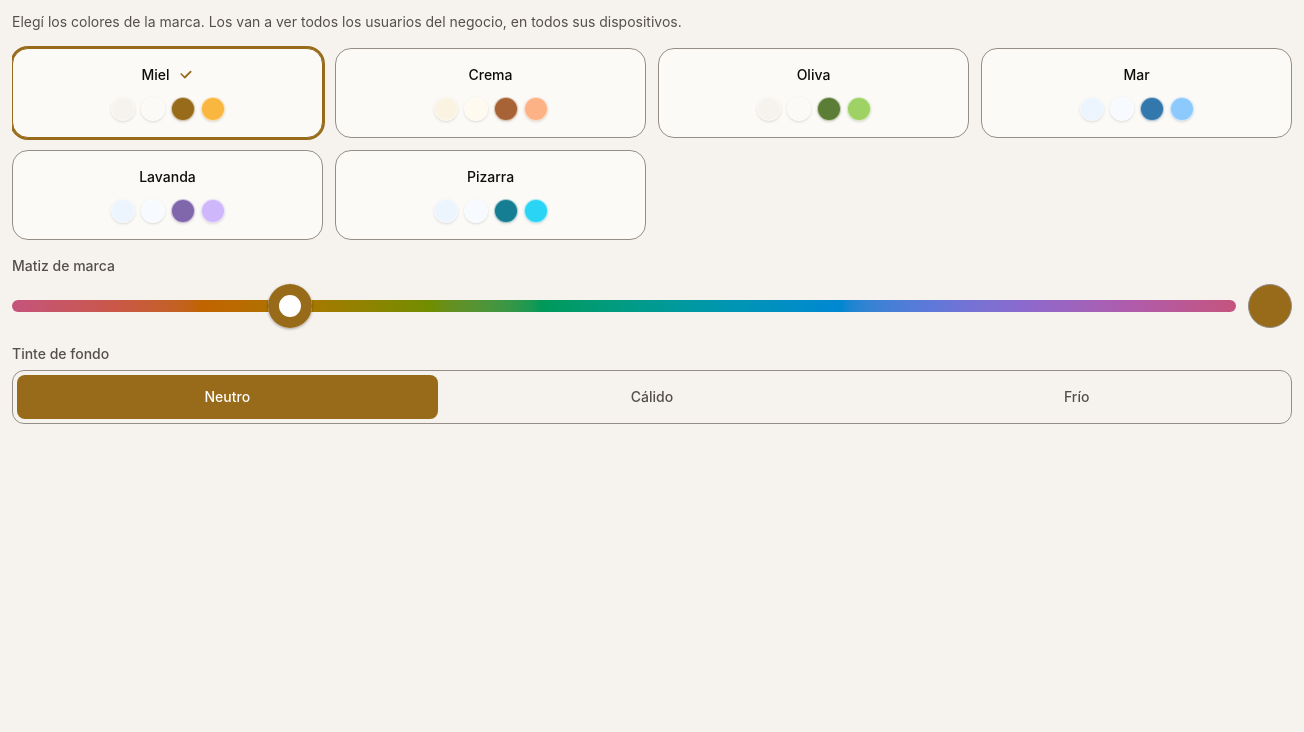
Test: SeccionColoresNegocio › Guardar sin conexión: dispara la escritura sin esperar y avisa con un toast informativo
This screenshot has width=1304, height=732.
Click the radio button labelled "Oliva": x=813, y=74 [658,48,969,138]
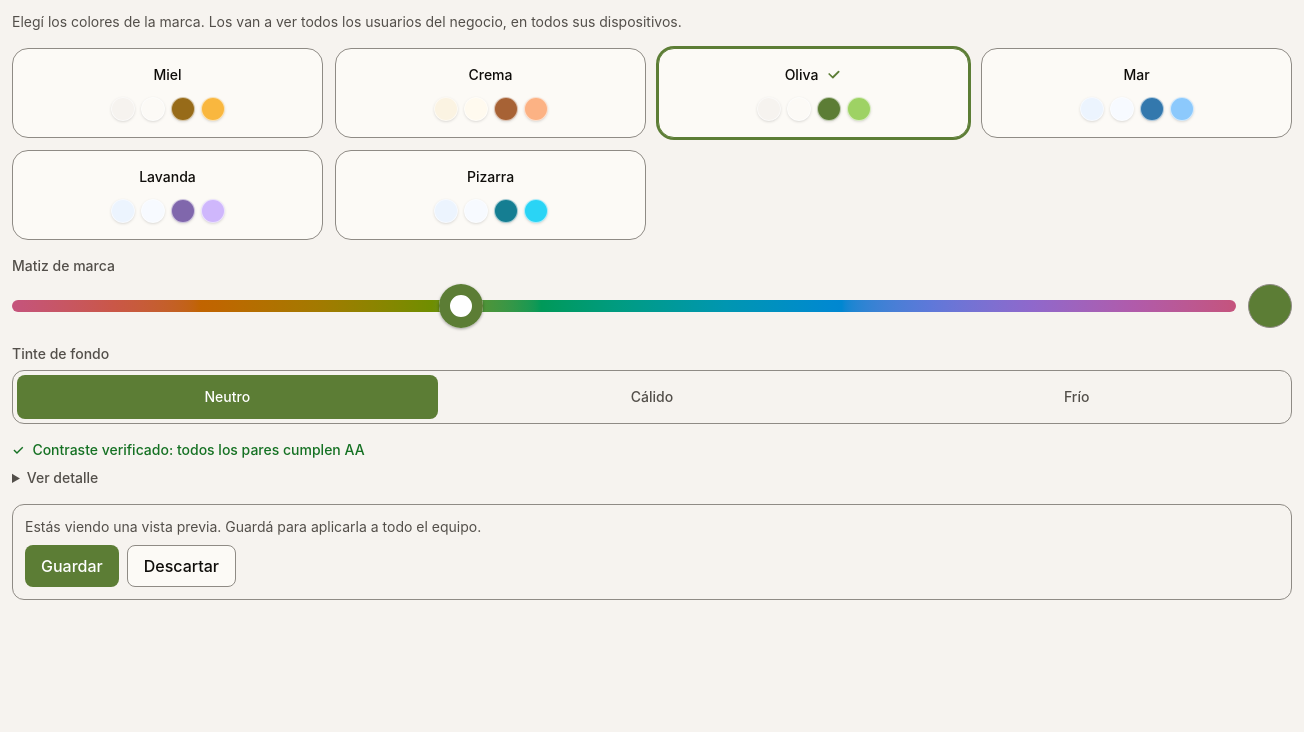
Click the button "Guardar": x=72, y=566 [25,545,119,587]
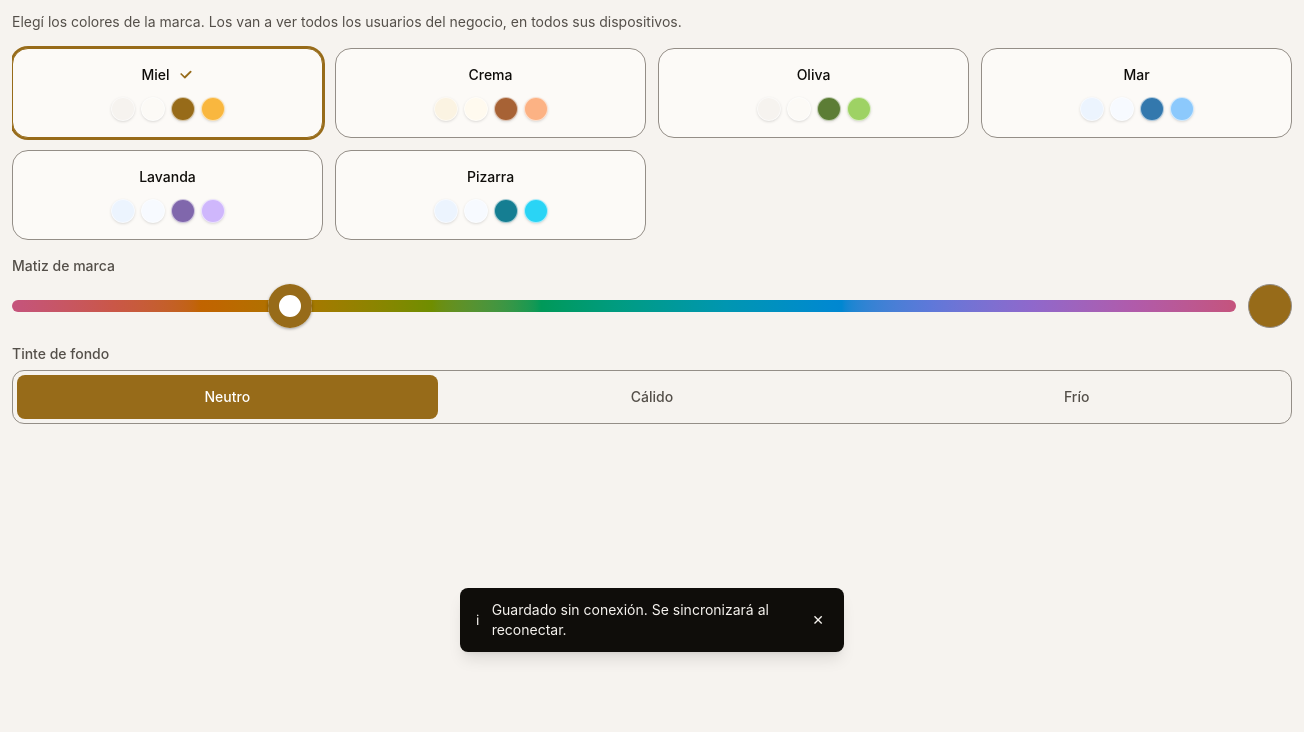
Check: the text "Guardado sin conexión. Se sincronizará al reconectar." is shown, box [492,600,796,640]
